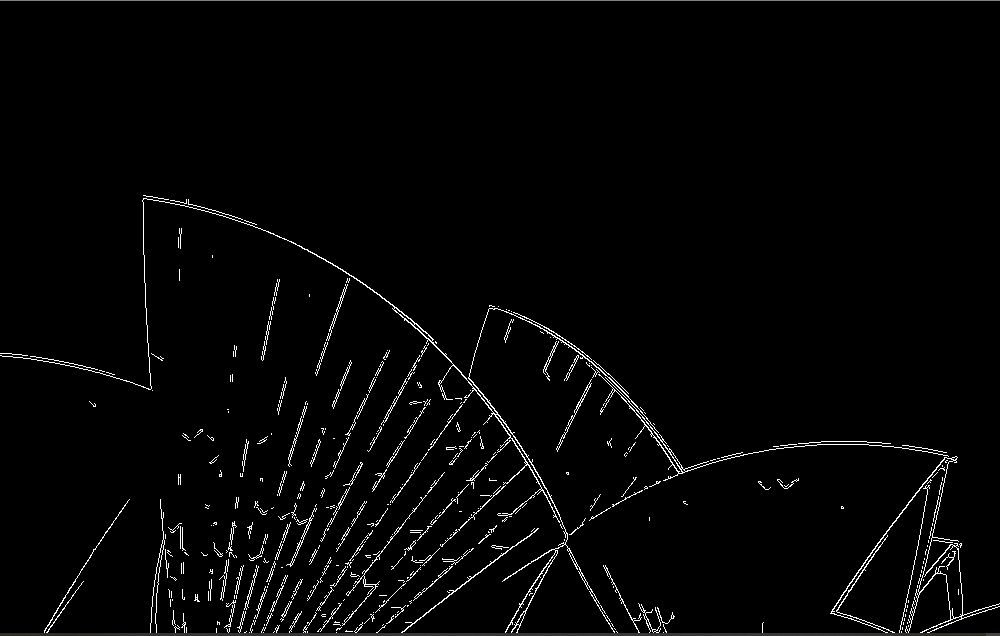opera house: (32, 163, 983, 627)
